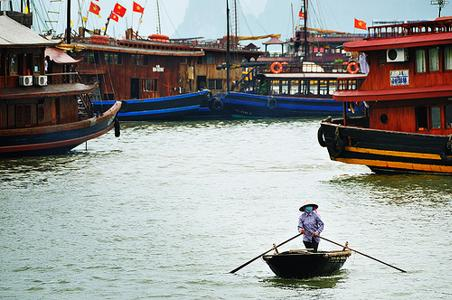person: (296, 202, 326, 252)
